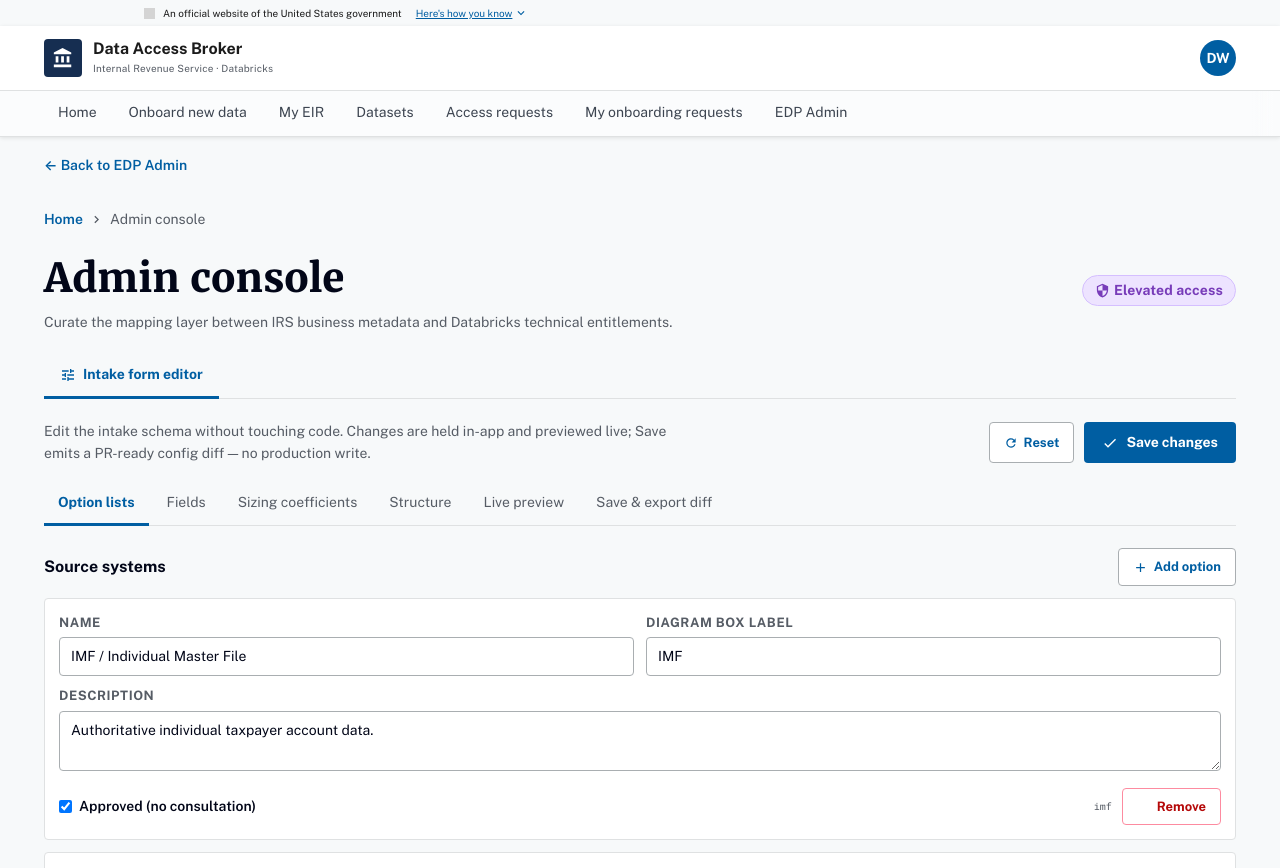
Test case: other StepIndicator consumers at tablet and desktop › keeps the admin editor's live-preview steps in a row at 1280px
The width and height of the screenshot is (1280, 868).
Step 1. Click the button "Live preview" → click(524, 504), box [470,482,578,526]
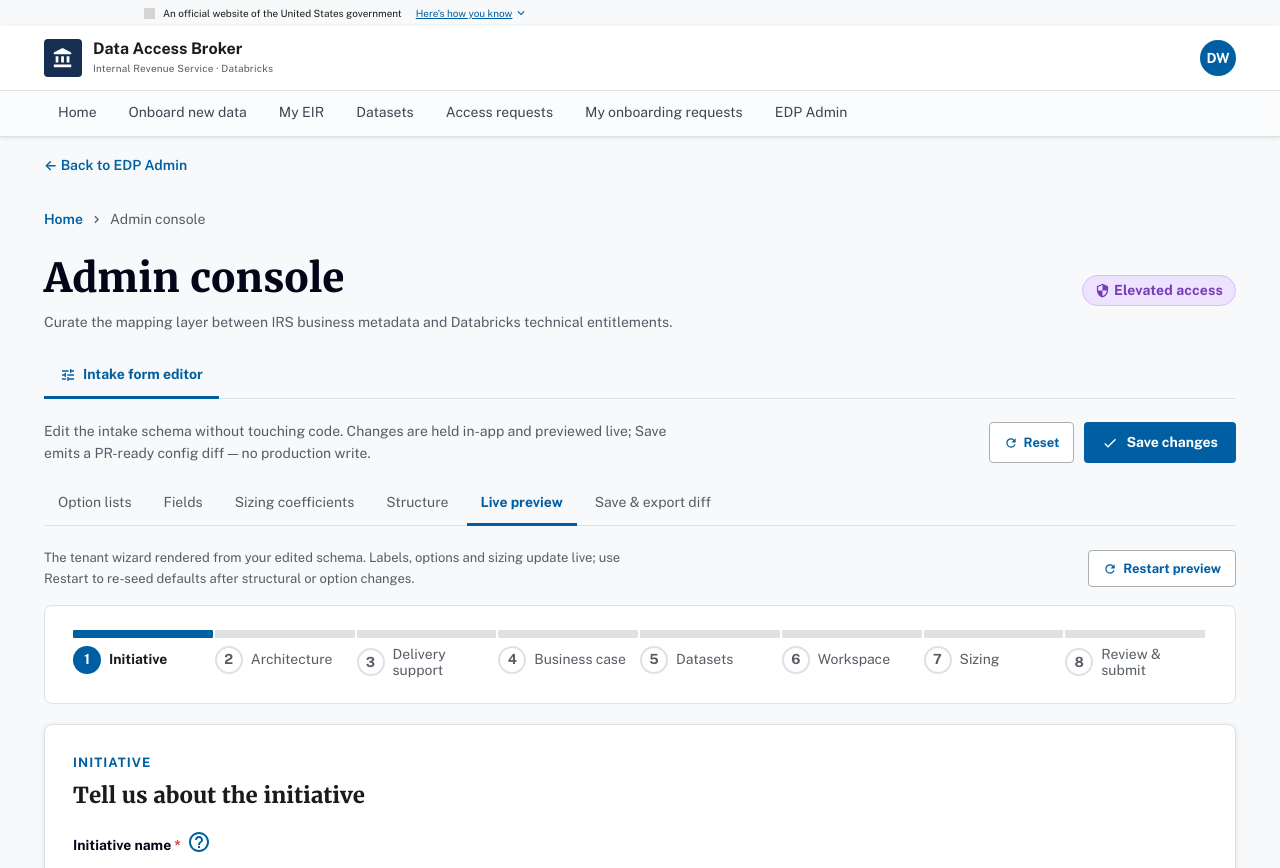
Check: the text "Initiative" in the row of "Architecture" is shown, box [109,651,167,668]
Check: the text "Architecture" is shown, box [251,651,332,668]
Check: the text "Delivery support" is shown, box [392,646,446,678]
